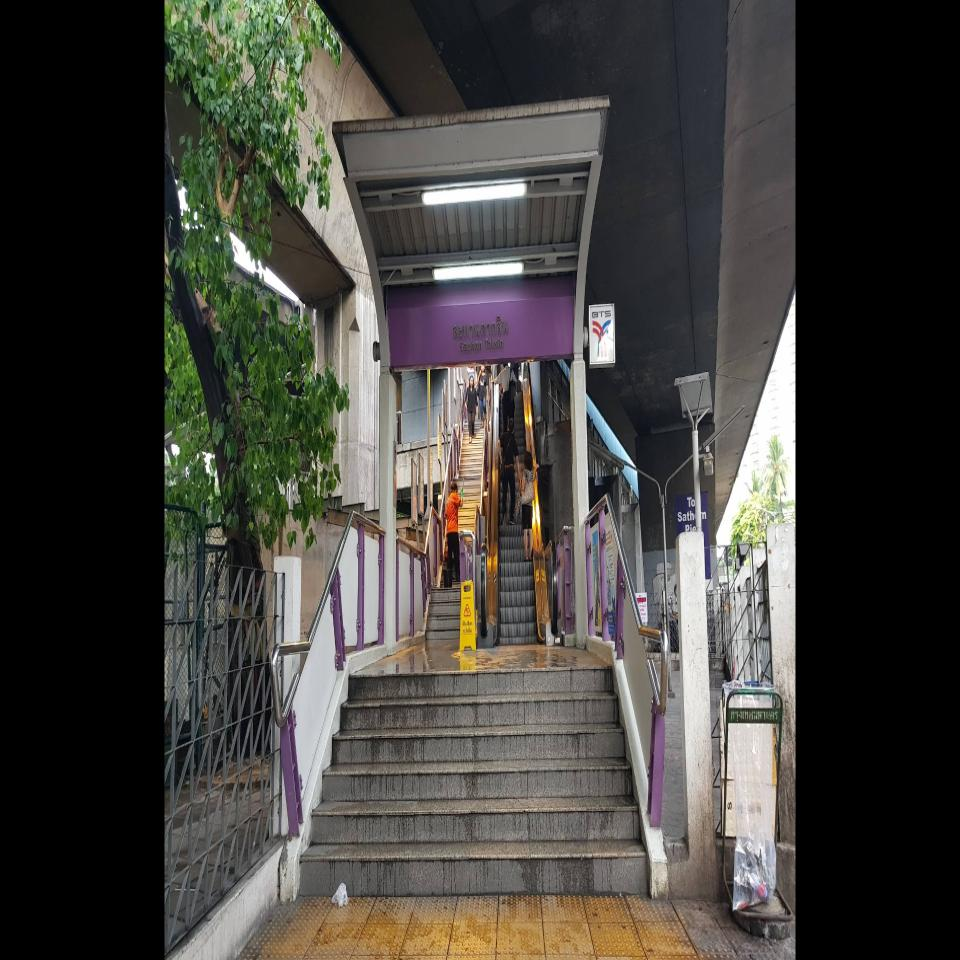signage: (387, 294, 615, 366), (386, 294, 574, 366)
